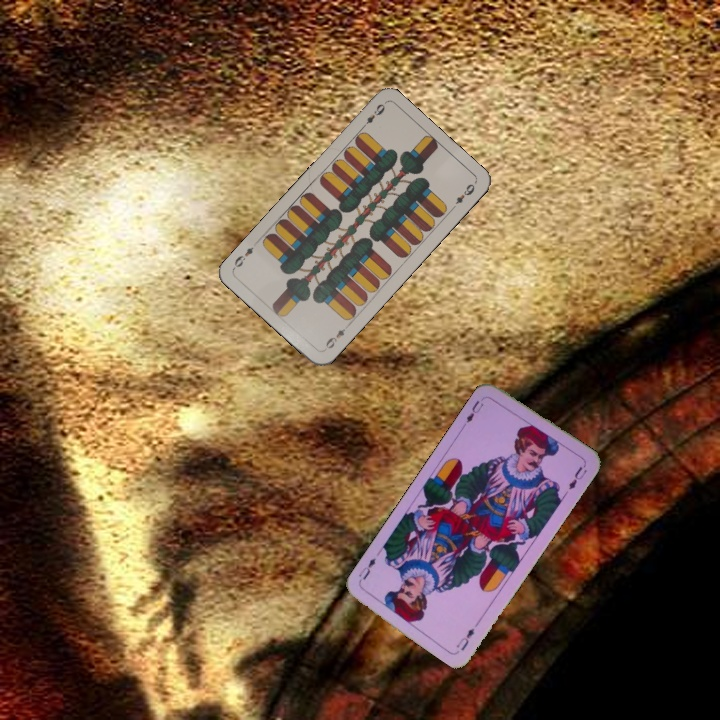E9: (357, 100, 388, 132), (320, 324, 347, 353)
EU: (462, 393, 487, 425), (452, 624, 477, 653)
